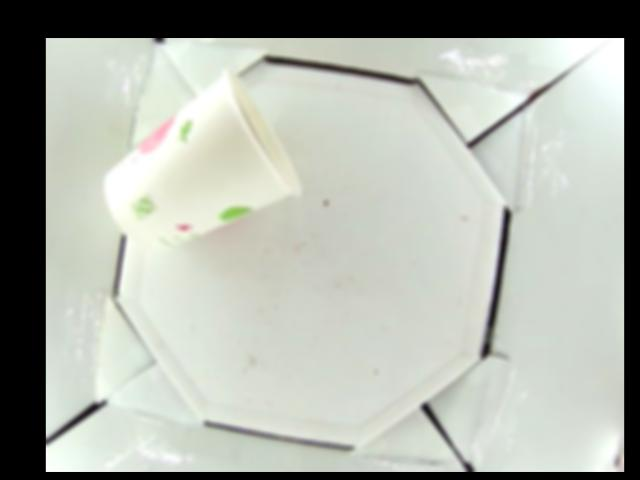Cup: (100, 71, 306, 248)
